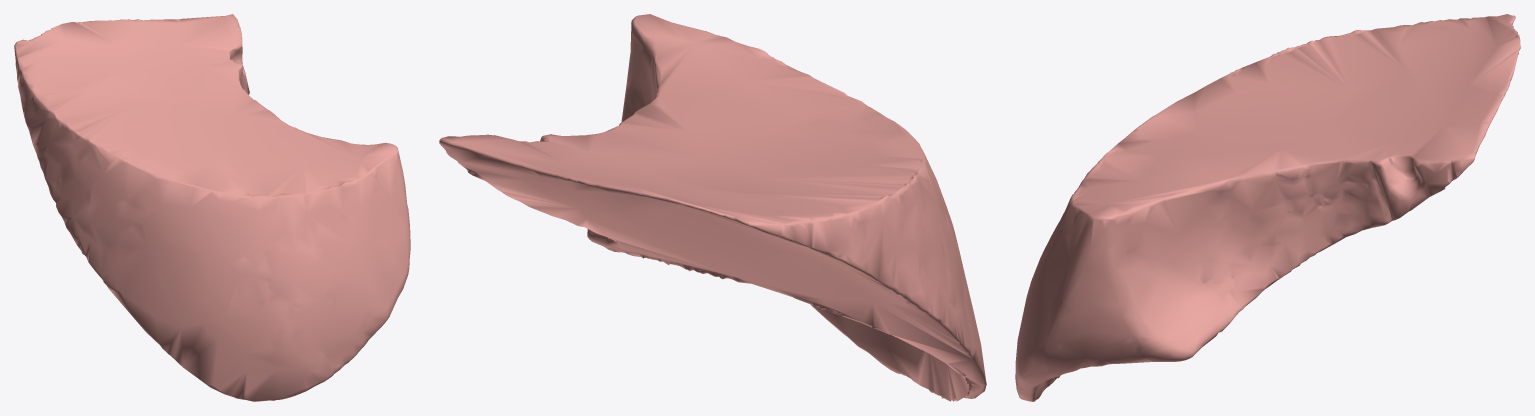
Rendered from Middle_lobe_right_lung.glb.
3 views of the same model, side by side, from view 1: azimuth 30°, elevation 25°; view 2: azimuth 150°, elevation 25°; view 3: azimuth 270°, elevation 25° (orthographic). The views are drawn at different scales.
Parts seen in each view (by area): view 1: Middle_lobe_of_right_lung_Generated_Mesh_From_X3D.828; view 2: Middle_lobe_of_right_lung_Generated_Mesh_From_X3D.828; view 3: Middle_lobe_of_right_lung_Generated_Mesh_From_X3D.828.
Boxes of the visible parts, box(x1,y1,x2,y2) form: Middle_lobe_of_right_lung_Generated_Mesh_From_X3D.828: box(14, 14, 410, 401); Middle_lobe_of_right_lung_Generated_Mesh_From_X3D.828: box(439, 14, 986, 401); Middle_lobe_of_right_lung_Generated_Mesh_From_X3D.828: box(1015, 14, 1520, 401).
Size of the model in its own units: 0.1195 by 0.1089 by 0.151.
